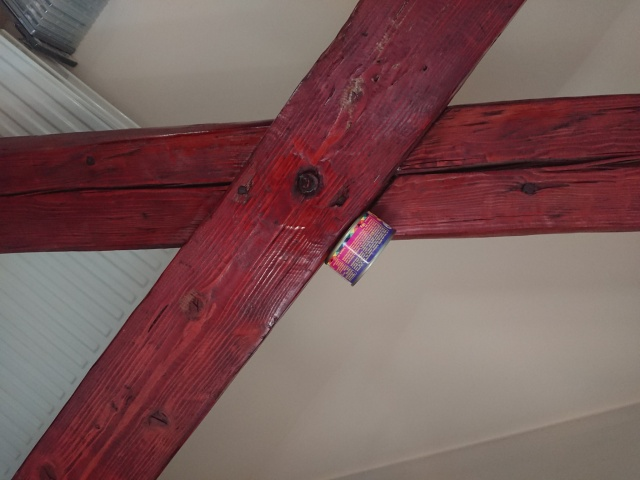Giana Tuna Salad Mexico 185g: (322, 207, 398, 289)
